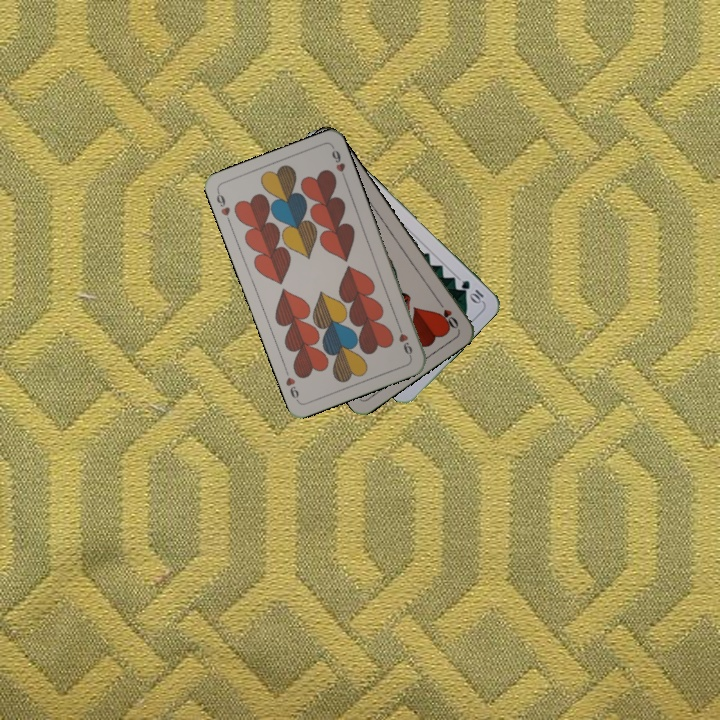G10: (457, 276, 486, 306)
H9: (393, 321, 415, 360), (212, 188, 234, 227)
HO: (433, 296, 461, 332)
